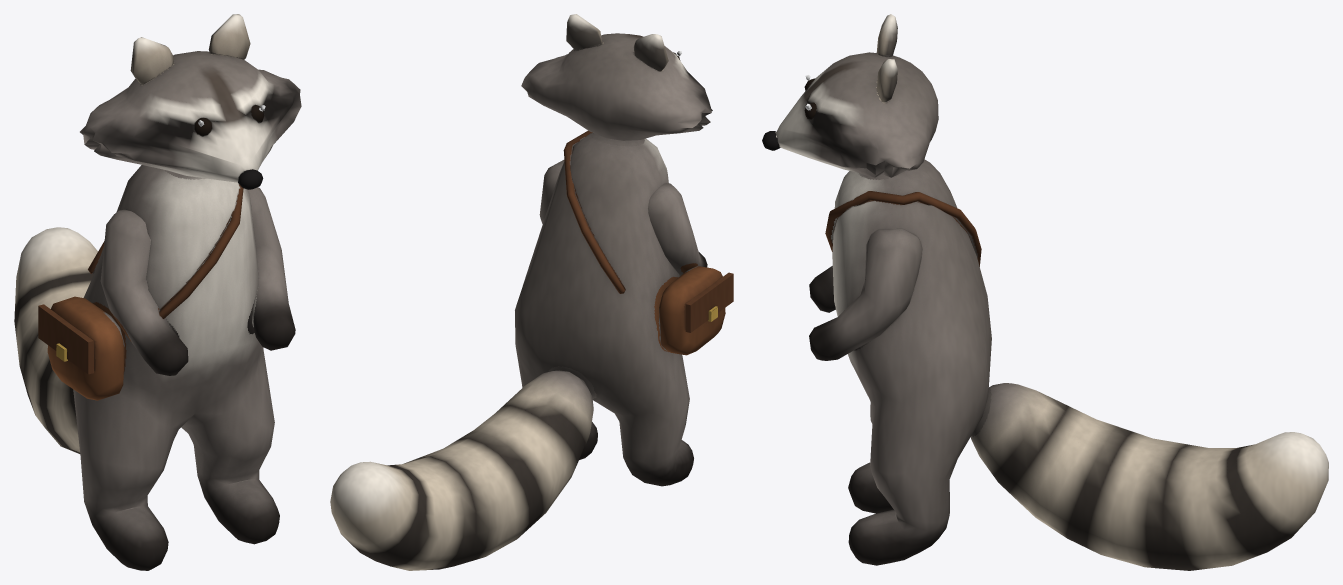
The model's file is Char_Raccoon.fbx.
3 renders of one model, left to right at view 1: azimuth 30°, elevation 25°; view 2: azimuth 150°, elevation 25°; view 3: azimuth 270°, elevation 25°, orthographic. The views are drawn at different scales.
Parts seen in each view (by area): view 1: Char_Raccoon; view 2: Char_Raccoon; view 3: Char_Raccoon.
Part boxes in pixels (bbox=[...]): Char_Raccoon: bbox=[14, 14, 301, 570]; Char_Raccoon: bbox=[330, 14, 733, 570]; Char_Raccoon: bbox=[762, 14, 1328, 570].
Size of the model in its own units: 0.2918 by 0.6001 by 0.6122.
1 material, 1 textured.
